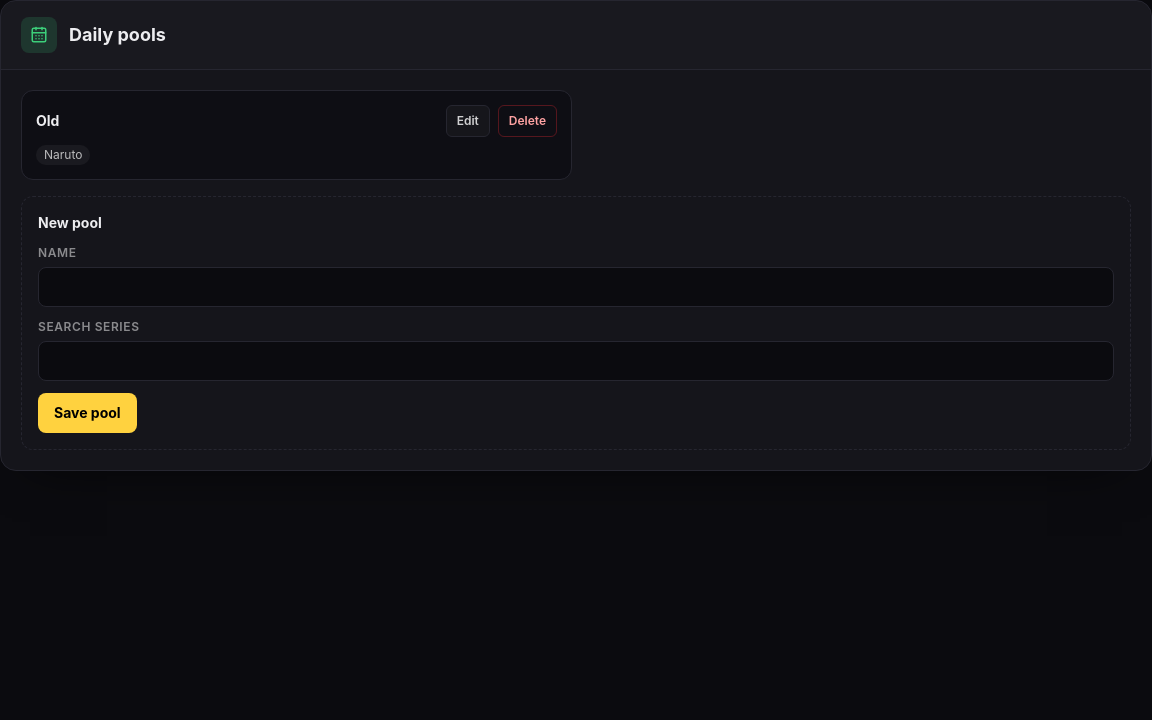
PoolsPanel › shows the invalid_pool error text
Click the button "Edit" at (468, 121), box x1=446 y1=105 x2=490 y2=137
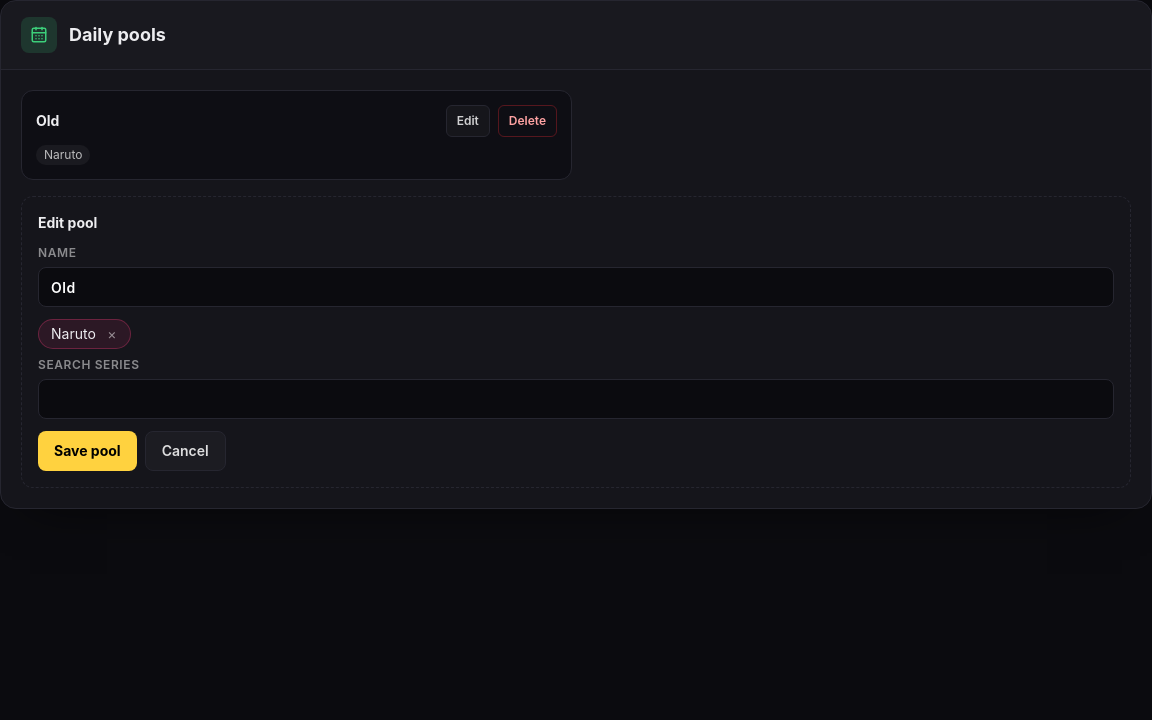
Click the button "Save pool" at (87, 451), box x1=38 y1=431 x2=137 y2=471
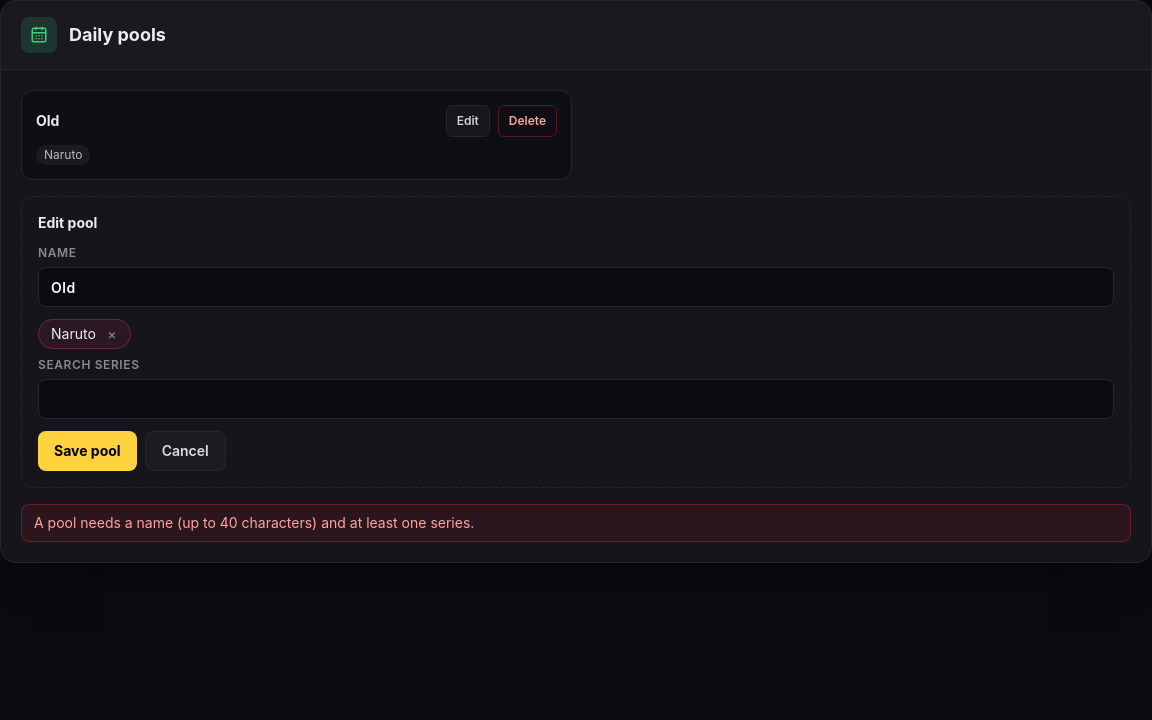
Expected: the text "A pool needs a name (up to 40 characters) and at least one series." is shown, x1=21 y1=504 x2=1131 y2=542
